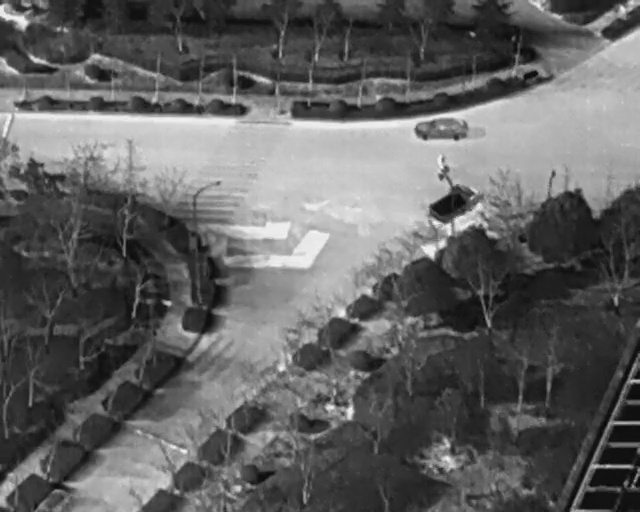Car: (422, 169, 487, 233), (415, 117, 471, 142), (40, 484, 67, 512)
